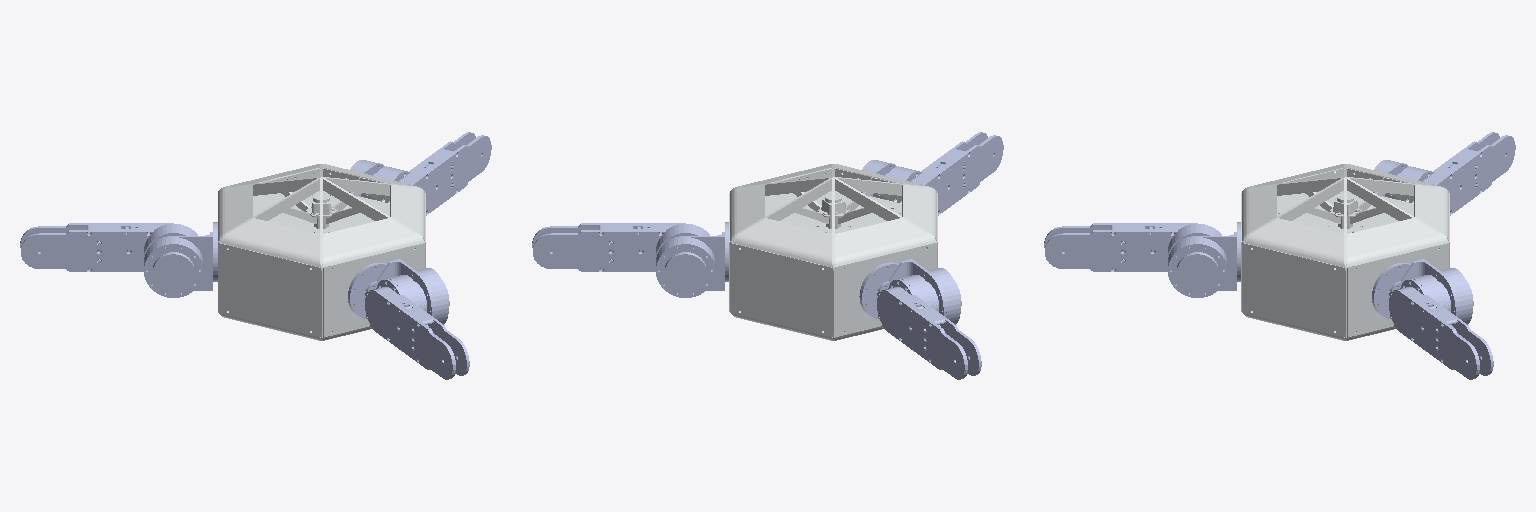
URDF robot description (tripod7):
<?xml version="1.0" encoding="utf-8"?>
<!-- This URDF was automatically created by SolidWorks to URDF Exporter! Originally created by [author] ([email redacted]) 
     Commit Version: 1.6.0-4-g7f85cfe  Build Version: 1.6.7995.38578
     For more information, please see http://wiki.ros.org/sw_urdf_exporter -->
<robot
  name="tripod7">
  <link
    name="base_link">
    <inertial>
      <origin
        xyz="-0.00325569437420387 0.0257919888126007 -0.0204787333466495"
        rpy="0 0 0" />
      <mass
        value="11.3762827967786" />
      <inertia
        ixx="0.0406078009036162"
        ixy="-4.08575099473851E-07"
        ixz="-0.0102641813124701"
        iyy="0.0710451653615873"
        iyz="5.21542661481351E-08"
        izz="0.0528921657804111" />
    </inertial>
    <visual>
      <origin
        xyz="0 0 0"
        rpy="0 0 0" />
      <geometry>
        <mesh
          filename="package://tripod7/meshes/base_link.STL" />
      </geometry>
      <material
        name="">
        <color
          rgba="0.898039215686275 0.917647058823529 0.929411764705882 1" />
      </material>
    </visual>
    <collision>
      <origin
        xyz="0 0 0"
        rpy="0 0 0" />
      <geometry>
        <mesh
          filename="package://tripod7/meshes/base_link.STL" />
      </geometry>
    </collision>
  </link>
  <link
    name="sec01">
    <inertial>
      <origin
        xyz="0.000486530958656806 0.0159126224363777 -3.14892804915735E-05"
        rpy="0 0 0" />
      <mass
        value="0.697122142025587" />
      <inertia
        ixx="0.00114281706366662"
        ixy="-9.00446160794246E-05"
        ixz="-4.13827473960806E-07"
        iyy="0.00119389494778556"
        iyz="-4.93432026125092E-19"
        izz="0.000954871408355491" />
    </inertial>
    <visual>
      <origin
        xyz="0 0 0"
        rpy="0 0 0" />
      <geometry>
        <mesh
          filename="package://tripod7/meshes/sec01.STL" />
      </geometry>
      <material
        name="">
        <color
          rgba="0.792156862745098 0.819607843137255 0.933333333333333 1" />
      </material>
    </visual>
    <collision>
      <origin
        xyz="0 0 0"
        rpy="0 0 0" />
      <geometry>
        <mesh
          filename="package://tripod7/meshes/sec01.STL" />
      </geometry>
    </collision>
  </link>
  <joint
    name="leg01"
    type="revolute">
    <origin
      xyz="-0.0027021 -0.19892 0.029643"
      rpy="0 0 -1.5708" />
    <parent
      link="base_link" />
    <child
      link="sec01" />
    <axis
      xyz="1 0 0" />
    <limit
      lower="-1.571"
      upper="1.571"
      effort="100000000"
      velocity="10000000" />
  </joint>
  <link
    name="hsec01">
    <inertial>
      <origin
        xyz="-0.085802207284442 -0.0586652892981549 -0.00128195126910836"
        rpy="0 0 0" />
      <mass
        value="2.59385289729097" />
      <inertia
        ixx="0.0132813286063691"
        ixy="2.30713341803901E-07"
        ixz="7.37838868928084E-06"
        iyy="0.00186263080107763"
        iyz="1.88984474958544E-06"
        izz="0.0117381218254458" />
    </inertial>
    <visual>
      <origin
        xyz="0 0 0"
        rpy="0 0 0" />
      <geometry>
        <mesh
          filename="package://tripod7/meshes/hsec01.STL" />
      </geometry>
      <material
        name="">
        <color
          rgba="0.792156862745098 0.819607843137255 0.933333333333333 1" />
      </material>
    </visual>
    <collision>
      <origin
        xyz="0 0 0"
        rpy="0 0 0" />
      <geometry>
        <mesh
          filename="package://tripod7/meshes/hsec01.STL" />
      </geometry>
    </collision>
  </link>
  <joint
    name="high01"
    type="revolute">
    <origin
      xyz="0.078806 0.0895 0"
      rpy="0 0 1.5708" />
    <parent
      link="sec01" />
    <child
      link="hsec01" />
    <axis
      xyz="-1 0 0" />
    <limit
      lower="-1.571"
      upper="1.571"
      effort="100000000"
      velocity="10000000" />
  </joint>
  <link
    name="lsec01">
    <inertial>
      <origin
        xyz="-0.0074115594800279 -0.0534070820824183 -2.19114356152239E-07"
        rpy="0 0 0" />
      <mass
        value="0.292019066527945" />
      <inertia
        ixx="0.000681104991544855"
        ixy="3.03504859419794E-10"
        ixz="-6.21574686594966E-10"
        iyy="8.62621908768423E-05"
        iyz="-1.16761217857468E-09"
        izz="0.000615710465634301" />
    </inertial>
    <visual>
      <origin
        xyz="0 0 0"
        rpy="0 0 0" />
      <geometry>
        <mesh
          filename="package://tripod7/meshes/lsec01.STL" />
      </geometry>
      <material
        name="">
        <color
          rgba="0.792156862745098 0.819607843137255 0.933333333333333 1" />
      </material>
    </visual>
    <collision>
      <origin
        xyz="0 0 0"
        rpy="0 0 0" />
      <geometry>
        <mesh
          filename="package://tripod7/meshes/lsec01.STL" />
      </geometry>
    </collision>
  </link>
  <joint
    name="low01"
    type="revolute">
    <origin
      xyz="-0.10655 -0.26964 -0.0021"
      rpy="0 0 0" />
    <parent
      link="hsec01" />
    <child
      link="lsec01" />
    <axis
      xyz="-1 0 0" />
    <limit
      lower="-1.571"
      upper="1.571"
      effort="100000000"
      velocity="10000000" />
  </joint>
  <link
    name="sec02">
    <inertial>
      <origin
        xyz="0.00048653095865675 0.0159126224363777 -3.14892804915562E-05"
        rpy="0 0 0" />
      <mass
        value="0.697122142025587" />
      <inertia
        ixx="0.00114281706366662"
        ixy="-9.00446160794232E-05"
        ixz="-4.13827473961486E-07"
        iyy="0.00119389494778556"
        iyz="-6.26039763286227E-19"
        izz="0.000954871408355487" />
    </inertial>
    <visual>
      <origin
        xyz="0 0 0"
        rpy="0 0 0" />
      <geometry>
        <mesh
          filename="package://tripod7/meshes/sec02.STL" />
      </geometry>
      <material
        name="">
        <color
          rgba="0.792156862745098 0.819607843137255 0.933333333333333 1" />
      </material>
    </visual>
    <collision>
      <origin
        xyz="0 0 0"
        rpy="0 0 0" />
      <geometry>
        <mesh
          filename="package://tripod7/meshes/sec02.STL" />
      </geometry>
    </collision>
  </link>
  <joint
    name="leg02"
    type="revolute">
    <origin
      xyz="0.18577 0.12753 0.029643"
      rpy="0 0 0.5236" />
    <parent
      link="base_link" />
    <child
      link="sec02" />
    <axis
      xyz="1 0 0" />
    <limit
      lower="-1.571"
      upper="1.571"
      effort="100000000"
      velocity="10000000" />
  </joint>
  <link
    name="hsec02">
    <inertial>
      <origin
        xyz="-0.0936880803892596 0.0449324326469038 -0.00132320363478538"
        rpy="0 0 0" />
      <mass
        value="2.58967801426391" />
      <inertia
        ixx="0.00471738722941004"
        ixy="-0.00494456996283436"
        ixz="5.32584938980879E-06"
        iyy="0.0104263520174632"
        iyz="-5.44494872557977E-06"
        izz="0.0117379962530972" />
    </inertial>
    <visual>
      <origin
        xyz="0 0 0"
        rpy="0 0 0" />
      <geometry>
        <mesh
          filename="package://tripod7/meshes/hsec02.STL" />
      </geometry>
      <material
        name="">
        <color
          rgba="0.792156862745098 0.819607843137255 0.933333333333333 1" />
      </material>
    </visual>
    <collision>
      <origin
        xyz="0 0 0"
        rpy="0 0 0" />
      <geometry>
        <mesh
          filename="package://tripod7/meshes/hsec02.STL" />
      </geometry>
    </collision>
  </link>
  <joint
    name="high02"
    type="revolute">
    <origin
      xyz="0.078806 0.0895 0"
      rpy="0 0 2.618" />
    <parent
      link="sec02" />
    <child
      link="hsec02" />
    <axis
      xyz="-0.5 0.86603 0" />
    <limit
      lower="-1.571"
      upper="1.571"
      effort="100000000"
      velocity="10000000" />
  </joint>
  <link
    name="lsec02">
    <inertial>
      <origin
        xyz="-0.049957669765295 -0.0202849427339906 -2.19055842905908E-07"
        rpy="0 0 0" />
      <mass
        value="0.292019079957839" />
      <inertia
        ixx="0.000234972541236231"
        ixy="-0.000257573690181133"
        ixz="-1.32698808821623E-09"
        iyy="0.000532392318918858"
        iyz="-3.6971385541252E-11"
        izz="0.000615708168370944" />
    </inertial>
    <visual>
      <origin
        xyz="0 0 0"
        rpy="0 0 0" />
      <geometry>
        <mesh
          filename="package://tripod7/meshes/lsec02.STL" />
      </geometry>
      <material
        name="">
        <color
          rgba="0.792156862745098 0.819607843137255 0.933333333333333 1" />
      </material>
    </visual>
    <collision>
      <origin
        xyz="0 0 0"
        rpy="0 0 0" />
      <geometry>
        <mesh
          filename="package://tripod7/meshes/lsec02.STL" />
      </geometry>
    </collision>
  </link>
  <joint
    name="low02"
    type="revolute">
    <origin
      xyz="-0.28679 -0.042547 -0.0021"
      rpy="0 0 0" />
    <parent
      link="hsec02" />
    <child
      link="lsec02" />
    <axis
      xyz="-0.5 0.86603 0" />
    <limit
      lower="-1.571"
      upper="1.571"
      effort="100000000"
      velocity="10000000" />
  </joint>
  <link
    name="sec03">
    <inertial>
      <origin
        xyz="0.00048653 0.034924 -0.04044"
        rpy="0 0 0" />
      <mass
        value="0.69712" />
      <inertia
        ixx="0.0011428"
        ixy="-9.0045E-05"
        ixz="-4.1383E-07"
        iyy="0.0011939"
        iyz="-1.7004E-17"
        izz="0.00095487" />
    </inertial>
    <visual>
      <origin
        xyz="0 0 0"
        rpy="0 0 0" />
      <geometry>
        <mesh
          filename="package://tripod7/meshes/sec03.STL" />
      </geometry>
      <material
        name="">
        <color
          rgba="0.79216 0.81961 0.93333 1" />
      </material>
    </visual>
    <collision>
      <origin
        xyz="0 0 0"
        rpy="0 0 0" />
      <geometry>
        <mesh
          filename="package://tripod7/meshes/sec03.STL" />
      </geometry>
    </collision>
  </link>
  <joint
    name="leg03"
    type="revolute">
    <origin
      xyz="-0.18167 0.14399 0.070052"
      rpy="0 0 2.618" />
    <parent
      link="base_link" />
    <child
      link="sec03" />
    <axis
      xyz="1 0 0" />
    <limit
      lower="-1.571"
      upper="1.571"
      effort="100000000"
      velocity="10000000" />
  </joint>
  <link
    name="hsec03">
    <inertial>
      <origin
        xyz="-0.0079045 0.10364 -0.001282"
        rpy="0 0 0" />
      <mass
        value="2.5939" />
      <inertia
        ixx="0.0047171"
        ixy="0.0049443"
        ixz="-2.0525E-06"
        iyy="0.010427"
        iyz="-7.3348E-06"
        izz="0.011738" />
    </inertial>
    <visual>
      <origin
        xyz="0 0 0"
        rpy="0 0 0" />
      <geometry>
        <mesh
          filename="package://tripod7/meshes/hsec03.STL" />
      </geometry>
      <material
        name="">
        <color
          rgba="0.79216 0.81961 0.93333 1" />
      </material>
    </visual>
    <collision>
      <origin
        xyz="0 0 0"
        rpy="0 0 0" />
      <geometry>
        <mesh
          filename="package://tripod7/meshes/hsec03.STL" />
      </geometry>
    </collision>
  </link>
  <joint
    name="high03"
    type="revolute">
    <origin
      xyz="0.078806 0.10851 -0.040409"
      rpy="0 0 -2.618" />
    <parent
      link="sec03" />
    <child
      link="hsec03" />
    <axis
      xyz="0.5 0.86603 0" />
    <limit
      lower="-1.571"
      upper="1.571"
      effort="100000000"
      velocity="10000000" />
  </joint>
  <link
    name="lsec03">
    <inertial>
      <origin
        xyz="-0.042546 0.033122 -2.1905E-07"
        rpy="0 0 0" />
      <mass
        value="0.29202" />
      <inertia
        ixx="0.00023497"
        ixy="0.00025757"
        ixz="-6.9589E-10"
        iyy="0.00053239"
        iyz="1.1309E-09"
        izz="0.00061571" />
    </inertial>
    <visual>
      <origin
        xyz="0 0 0"
        rpy="0 0 0" />
      <geometry>
        <mesh
          filename="package://tripod7/meshes/lsec03.STL" />
      </geometry>
      <material
        name="">
        <color
          rgba="0.89804 0.91765 0.92941 1" />
      </material>
    </visual>
    <collision>
      <origin
        xyz="0 0 0"
        rpy="0 0 0" />
      <geometry>
        <mesh
          filename="package://tripod7/meshes/lsec03.STL" />
      </geometry>
    </collision>
  </link>
  <joint
    name="low03"
    type="revolute">
    <origin
      xyz="-0.18024 0.2271 -0.0021"
      rpy="0 0 0" />
    <parent
      link="hsec03" />
    <child
      link="lsec03" />
    <axis
      xyz="0.5 0.86603 0" />
    <limit
      lower="-1.571"
      upper="1.571"
      effort="100000000"
      velocity="10000000" />
  </joint>

<!--transmission definition -->
<transmission name="tran01">
    <type>transmission_interface/SimpleTransmission</type>
    <joint name="leg01">
      <hardwareInterface>hardware_interface/EffortJointInterface</hardwareInterface>
    </joint>
    <actuator name="motor01">
      <hardwareInterface>hardware_interface/EffortJointInterface</hardwareInterface>
      <mechanicalReduction>1</mechanicalReduction>
    </actuator>
  </transmission>
  
  <transmission name="tran02">
    <type>transmission_interface/SimpleTransmission</type>
    <joint name="high01">
      <hardwareInterface>hardware_interface/EffortJointInterface</hardwareInterface>
    </joint>
    <actuator name="motor02">
      <hardwareInterface>hardware_interface/EffortJointInterface</hardwareInterface>
      <mechanicalReduction>1</mechanicalReduction>
    </actuator>
  </transmission>
  
  <transmission name="tran03">
    <type>transmission_interface/SimpleTransmission</type>
    <joint name="low01">
      <hardwareInterface>hardware_interface/EffortJointInterface</hardwareInterface>
    </joint>
    <actuator name="motor03">
      <hardwareInterface>hardware_interface/EffortJointInterface</hardwareInterface>
      <mechanicalReduction>1</mechanicalReduction>
    </actuator>
  </transmission>
  
  <transmission name="tran04">
    <type>transmission_interface/SimpleTransmission</type>
    <joint name="leg02">
      <hardwareInterface>hardware_interface/EffortJointInterface</hardwareInterface>
    </joint>
    <actuator name="motor04">
      <hardwareInterface>hardware_interface/EffortJointInterface</hardwareInterface>
      <mechanicalReduction>1</mechanicalReduction>
    </actuator>
  </transmission>
  
  <transmission name="tran05">
    <type>transmission_interface/SimpleTransmission</type>
    <joint name="high02">
      <hardwareInterface>hardware_interface/EffortJointInterface</hardwareInterface>
    </joint>
    <actuator name="motor05">
      <hardwareInterface>hardware_interface/EffortJointInterface</hardwareInterface>
      <mechanicalReduction>1</mechanicalReduction>
    </actuator>
  </transmission>
  
  <transmission name="tran06">
    <type>transmission_interface/SimpleTransmission</type>
    <joint name="low02">
      <hardwareInterface>hardware_interface/EffortJointInterface</hardwareInterface>
    </joint>
    <actuator name="motor06">
      <hardwareInterface>hardware_interface/EffortJointInterface</hardwareInterface>
      <mechanicalReduction>1</mechanicalReduction>
    </actuator>
  </transmission>
  
  <transmission name="tran07">
    <type>transmission_interface/SimpleTransmission</type>
    <joint name="leg03">
      <hardwareInterface>hardware_interface/EffortJointInterface</hardwareInterface>
    </joint>
    <actuator name="motor07">
      <hardwareInterface>hardware_interface/EffortJointInterface</hardwareInterface>
      <mechanicalReduction>1</mechanicalReduction>
    </actuator>
  </transmission>
  
  <transmission name="tran08">
    <type>transmission_interface/SimpleTransmission</type>
    <joint name="high03">
      <hardwareInterface>hardware_interface/EffortJointInterface</hardwareInterface>
    </joint>
    <actuator name="motor08">
      <hardwareInterface>hardware_interface/EffortJointInterface</hardwareInterface>
      <mechanicalReduction>1</mechanicalReduction>
    </actuator>
  </transmission>
  
  <transmission name="tran09">
    <type>transmission_interface/SimpleTransmission</type>
    <joint name="low03">
      <hardwareInterface>hardware_interface/EffortJointInterface</hardwareInterface>
    </joint>
    <actuator name="motor09">
      <hardwareInterface>hardware_interface/EffortJointInterface</hardwareInterface>
      <mechanicalReduction>1</mechanicalReduction>
    </actuator>
  </transmission>
  
      <!--cointrol pluging -->
  <gazebo>
  <plugin name="gazebo_ros_control" filename="libgazebo_ros_control.so">

  </plugin>
</gazebo>

<!--
<gazebo reference="sec01">
   <turnGravityOff>true</turnGravityOff>
</gazebo>

<gazebo reference="sec02">
   <turnGravityOff>true</turnGravityOff>
</gazebo>

<gazebo reference="sec03">
   <turnGravityOff>true</turnGravityOff>
</gazebo>

<gazebo reference="sec04">
   <turnGravityOff>true</turnGravityOff>
</gazebo>

<gazebo reference="sec05">
   <turnGravityOff>true</turnGravityOff>
</gazebo>

<gazebo reference="sec06">
   <turnGravityOff>true</turnGravityOff>
</gazebo>

<gazebo reference="sec07">
   <turnGravityOff>true</turnGravityOff>
</gazebo>

<gazebo reference="sec08">
   <turnGravityOff>true</turnGravityOff>
</gazebo>

<gazebo reference="sec09">
   <turnGravityOff>true</turnGravityOff>
</gazebo>

<gazebo reference="sec10">
   <turnGravityOff>true</turnGravityOff>
</gazebo>

<gazebo reference="sec11">
   <turnGravityOff>true</turnGravityOff>
</gazebo>

-->
</robot>

--- Facts derived from the render (not from the file) ---
The picture shows the robot from 3 angles, left to right: view 1: azimuth 30°, elevation 25°; view 2: azimuth 150°, elevation 25°; view 3: azimuth 270°, elevation 25°; orthographic projection.
Robot: tripod7 — 10 links, 9 joints (9 revolute); root link base_link; default pose: all joints at 0.
Links seen in each view (by area): view 1: base_link, hsec03, hsec01, hsec02, sec01, sec03; view 2: base_link, hsec02, hsec03, hsec01, sec03, sec02; view 3: base_link, hsec01, hsec02, hsec03, sec02, sec01.
Boxes of the visible links, x1,y1,x2,y2 form: base_link: (98,164,425,340); hsec03: (20,223,203,297); hsec01: (365,268,469,379); hsec02: (350,132,491,215); sec01: (348,259,434,319); sec03: (144,222,217,290); base_link: (729,164,940,340); hsec02: (532,223,715,297); hsec03: (877,268,981,379); hsec01: (862,132,1003,215); sec03: (859,259,946,319); sec02: (656,222,728,290); base_link: (1241,164,1477,340); hsec01: (1044,223,1227,297); hsec02: (1389,268,1493,379); hsec03: (1374,132,1515,215); sec02: (1372,259,1458,319); sec01: (1168,222,1240,290).
Size in the robot's own frame: 1.07 by 0.9455 by 0.333 metres.
Meshes: 10 distinct files referenced, 7 mesh visuals loaded (7 binary STL); not drawn: 3 (reference not matched to a file when rendering).
